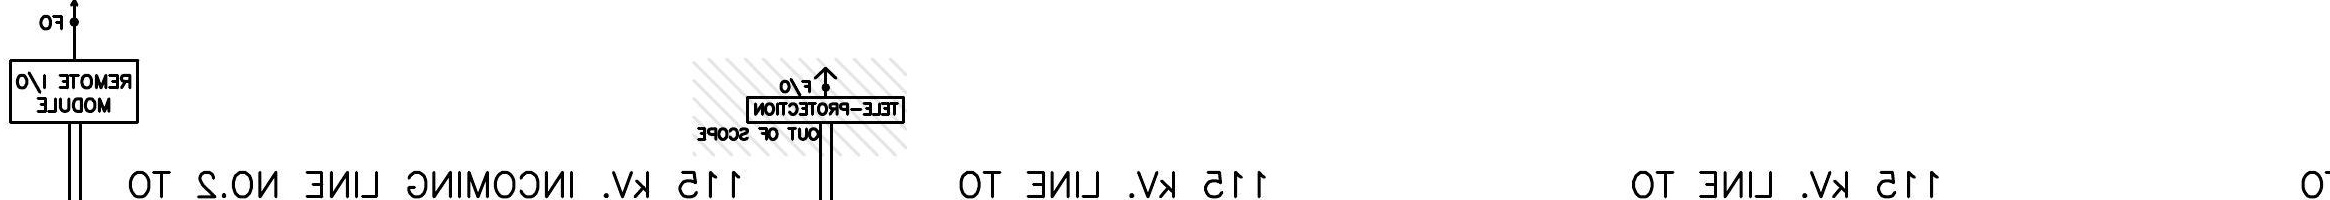remote_io_module: (9, 59, 140, 124)
tele_protection: (744, 95, 905, 124)
